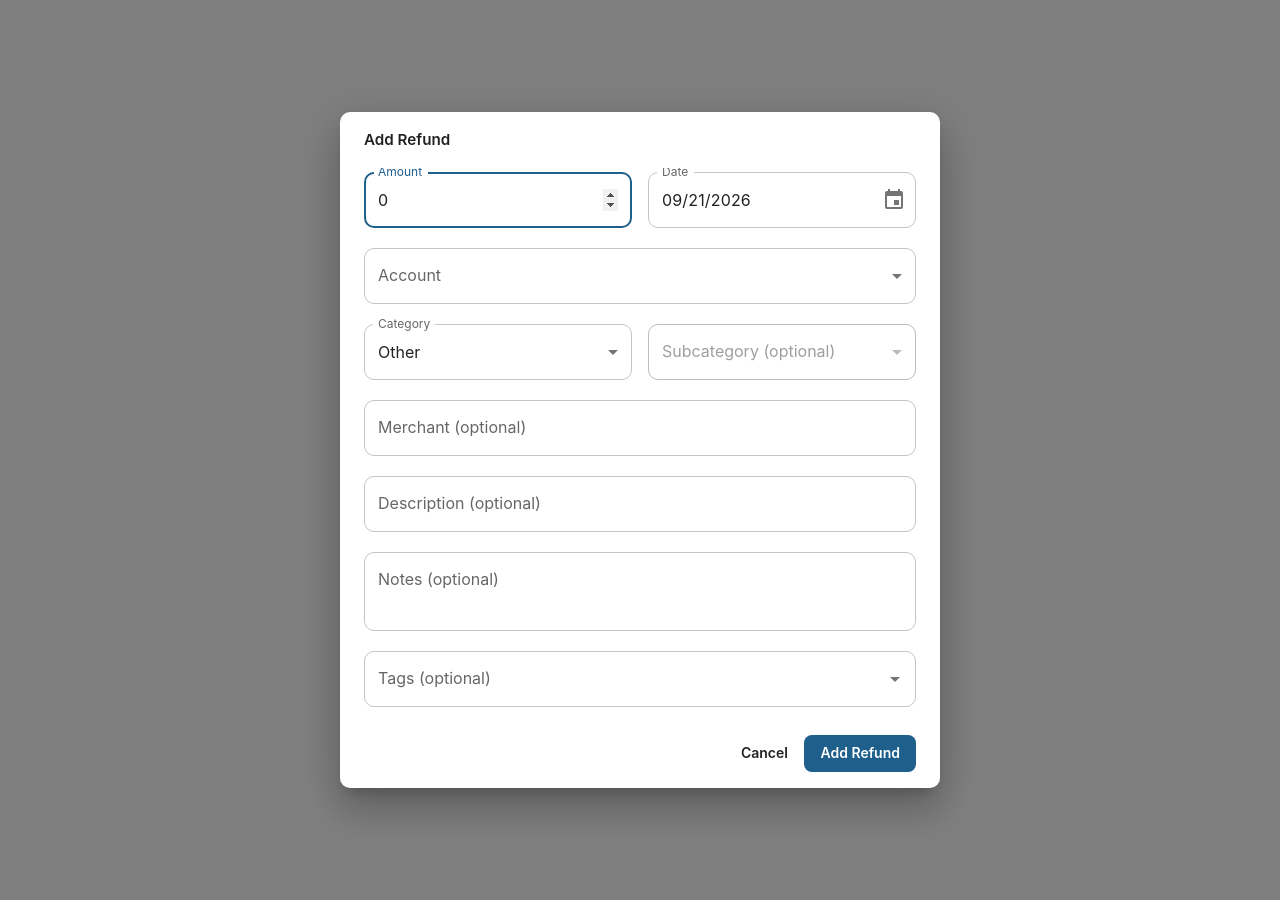
Test: RefundFormDialog › shows a validation error and does not submit without an account
The width and height of the screenshot is (1280, 900).
Replace the text in the number field labelled "Amount" with "100": (498, 200) [364,172,632,228]
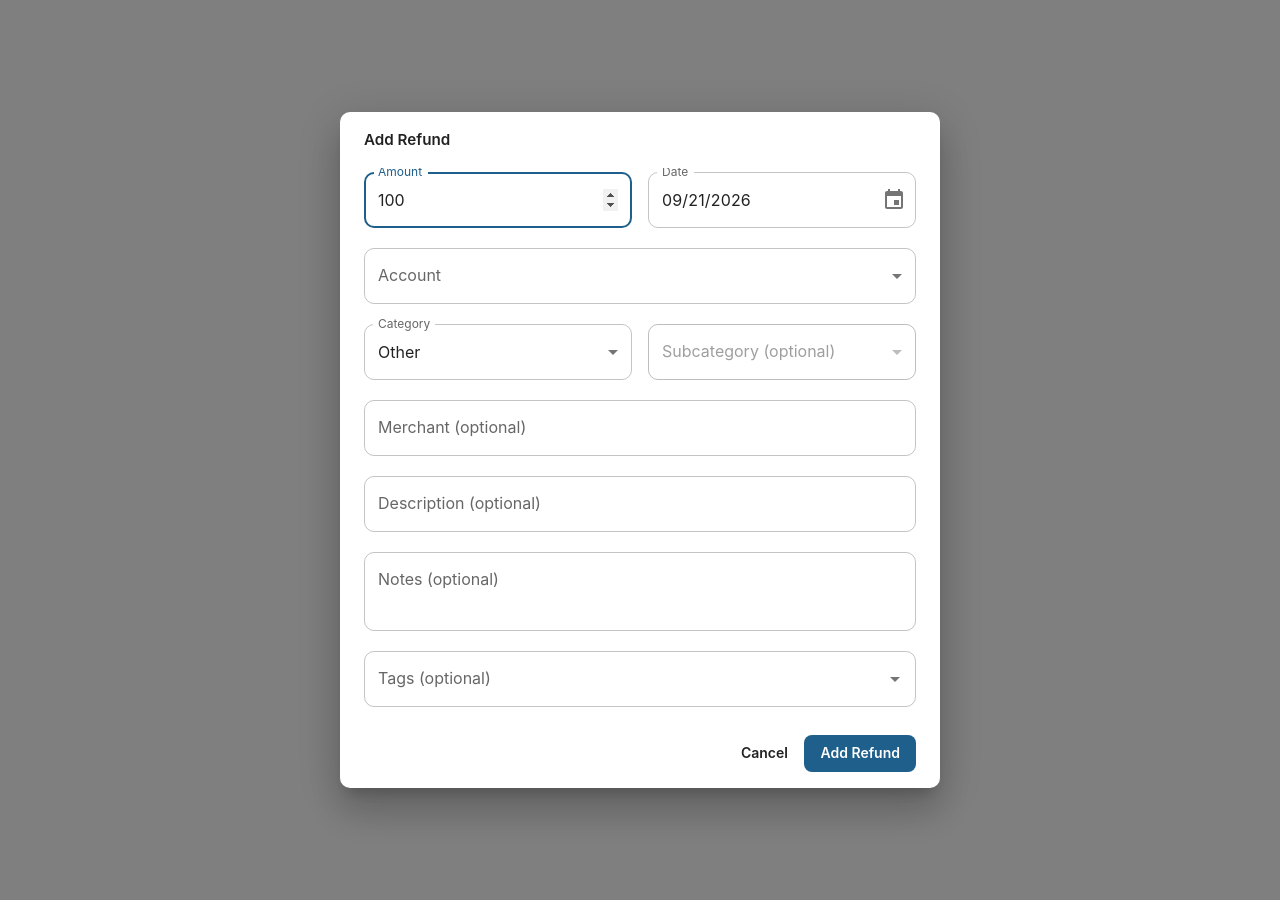
Click the button "Add Refund": (860, 754) [804,735,916,772]
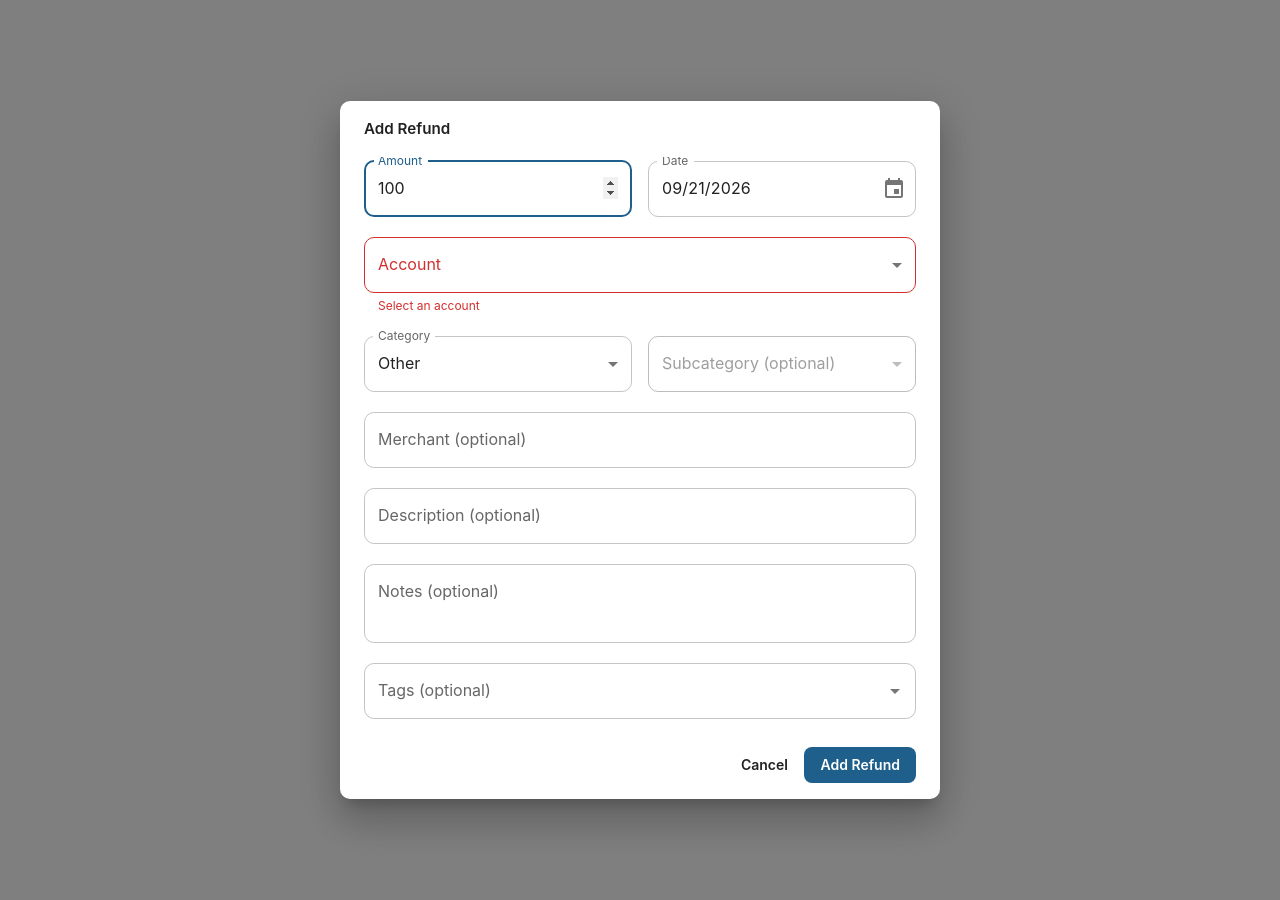
Now the text "Select an account" is shown, box [378,298,480,313]
